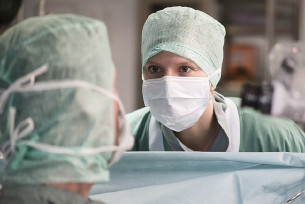face_mask: (142, 45, 209, 130)
